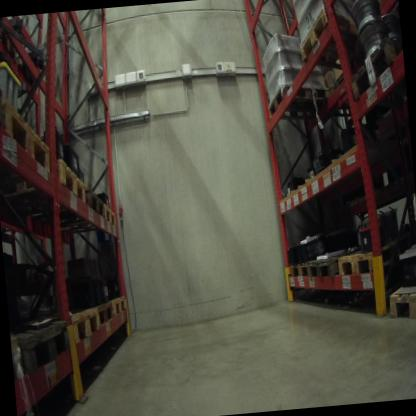pallet: (0, 90, 59, 204), (1, 155, 89, 222), (297, 4, 361, 72), (14, 317, 76, 386), (346, 37, 406, 104), (267, 83, 342, 124), (335, 244, 402, 285), (67, 297, 104, 357), (308, 246, 353, 286), (11, 326, 35, 384), (388, 277, 416, 326), (81, 184, 107, 230), (288, 251, 313, 284), (110, 292, 130, 326), (102, 198, 120, 232), (98, 297, 116, 331)
